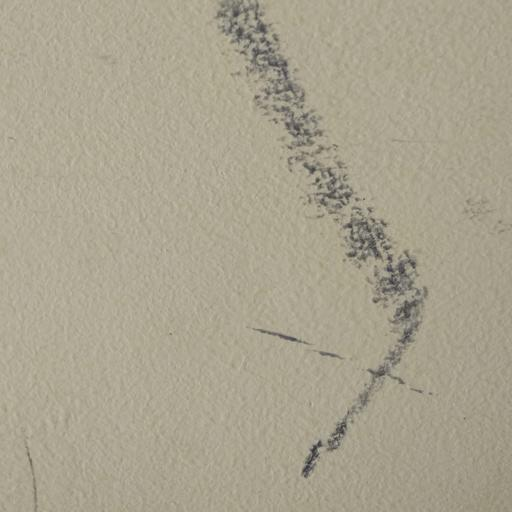stain: (181, 0, 447, 512), (455, 171, 512, 263), (16, 414, 60, 512)
